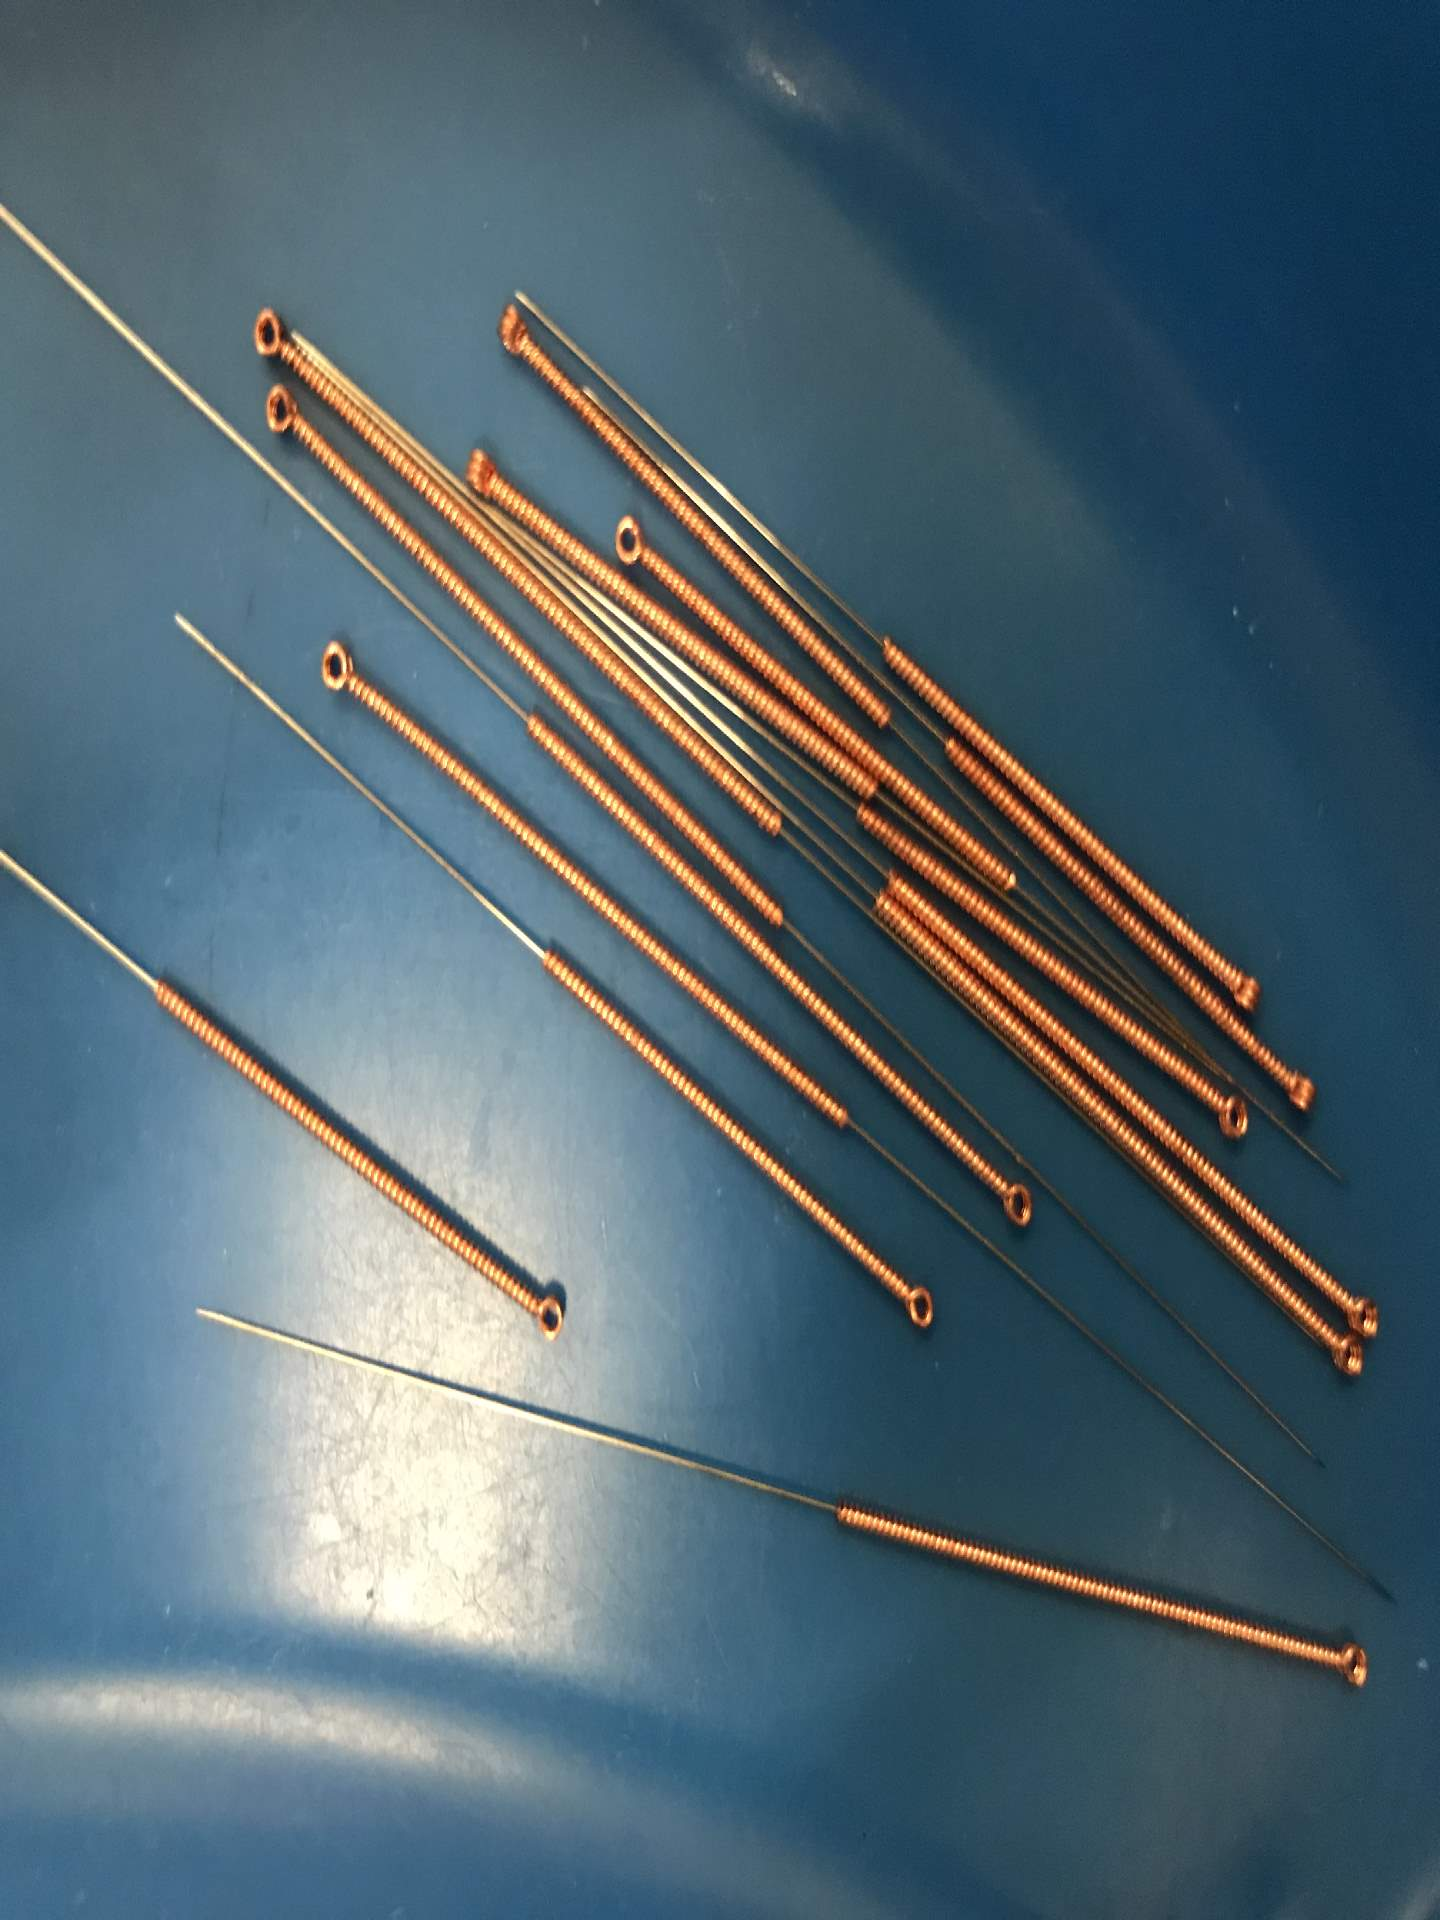needle: (475, 290, 554, 376), (451, 432, 529, 514), (303, 629, 377, 714), (242, 376, 315, 458), (504, 1274, 579, 1352), (1260, 1051, 1334, 1128), (1314, 1625, 1386, 1705), (879, 1268, 951, 1346), (1193, 1070, 1265, 1149), (231, 296, 303, 372), (985, 1163, 1050, 1241), (1302, 1330, 1381, 1395), (604, 502, 666, 578), (1336, 1270, 1389, 1339), (1221, 955, 1269, 1017)
